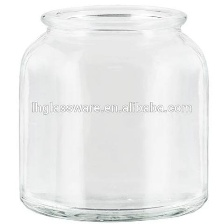bottle: (13, 0, 214, 221)
